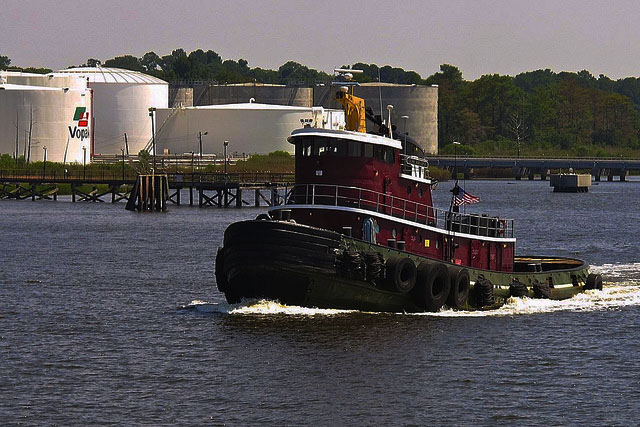tug_boat: (214, 63, 598, 307)
